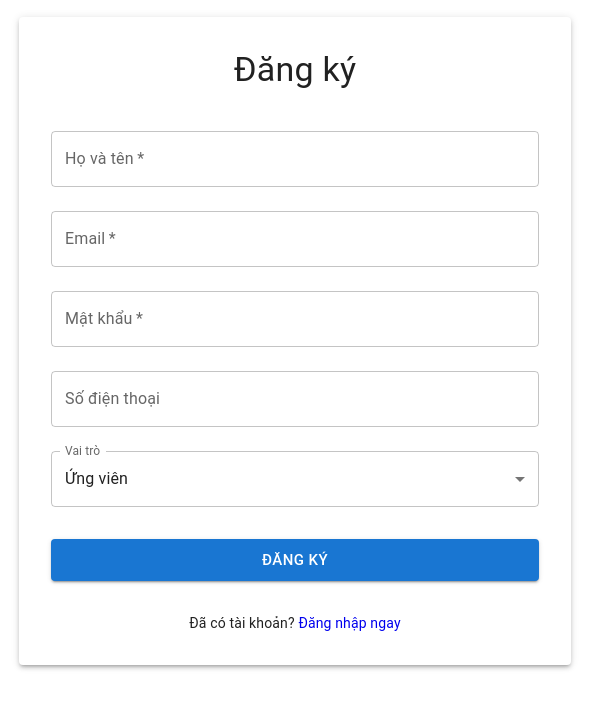
Test: RegisterPage - Error Handling & Validation › Client-side Validation › should display password validation error when missing uppercase/lowercase
# User enters password without uppercase
Type "password" into the password field labelled "Mật khẩu *" at (295, 319), box top-left (51, 291), bottom-right (539, 347)
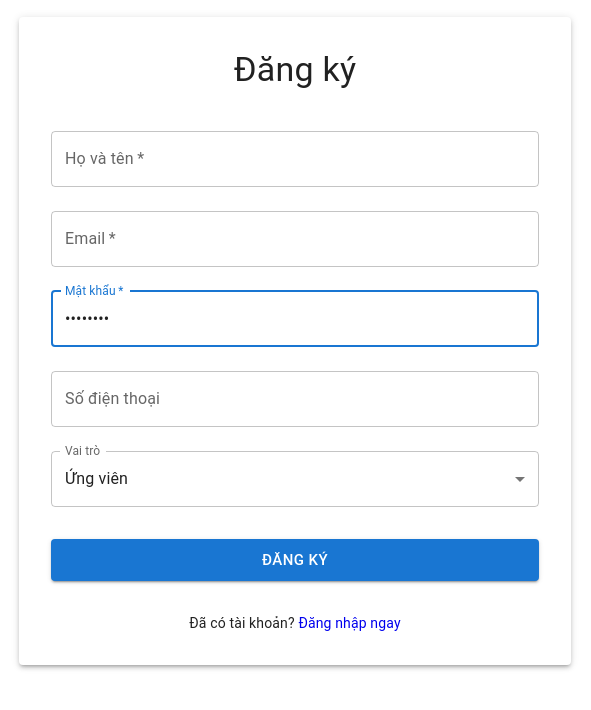
Leave the password field labelled "Mật khẩu *", box top-left (51, 291), bottom-right (539, 347)
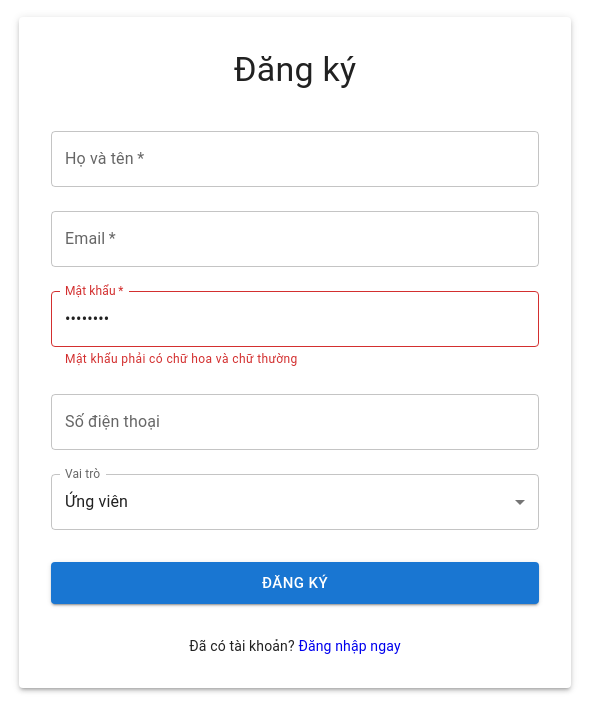
Expected: the text "Mật khẩu phải có chữ hoa và chữ thường" is shown, top-left (65, 352), bottom-right (298, 366)
